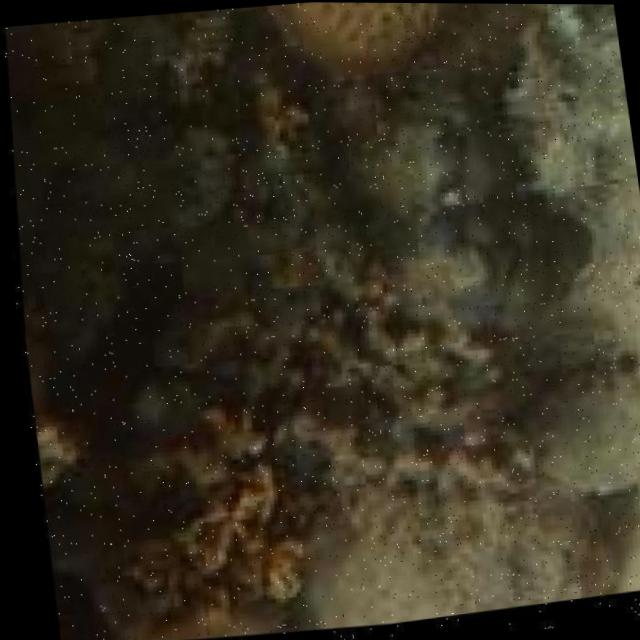Healthy Coral: (108, 399, 339, 619), (274, 2, 455, 85)
